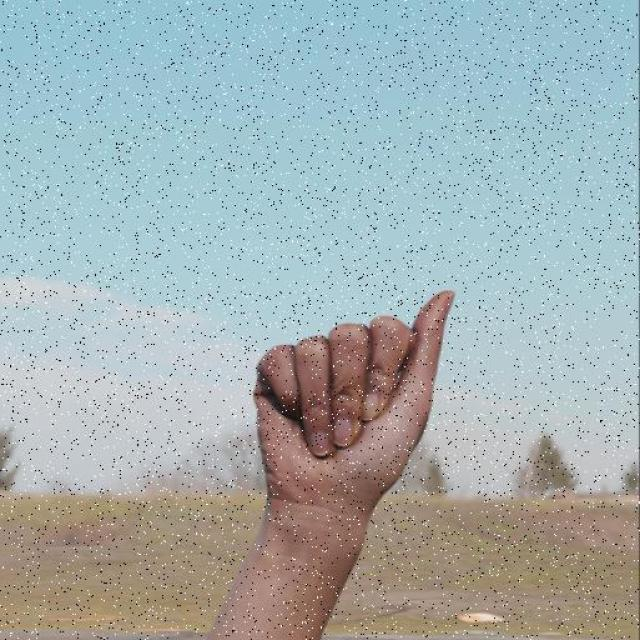A: (251, 286, 459, 520)
